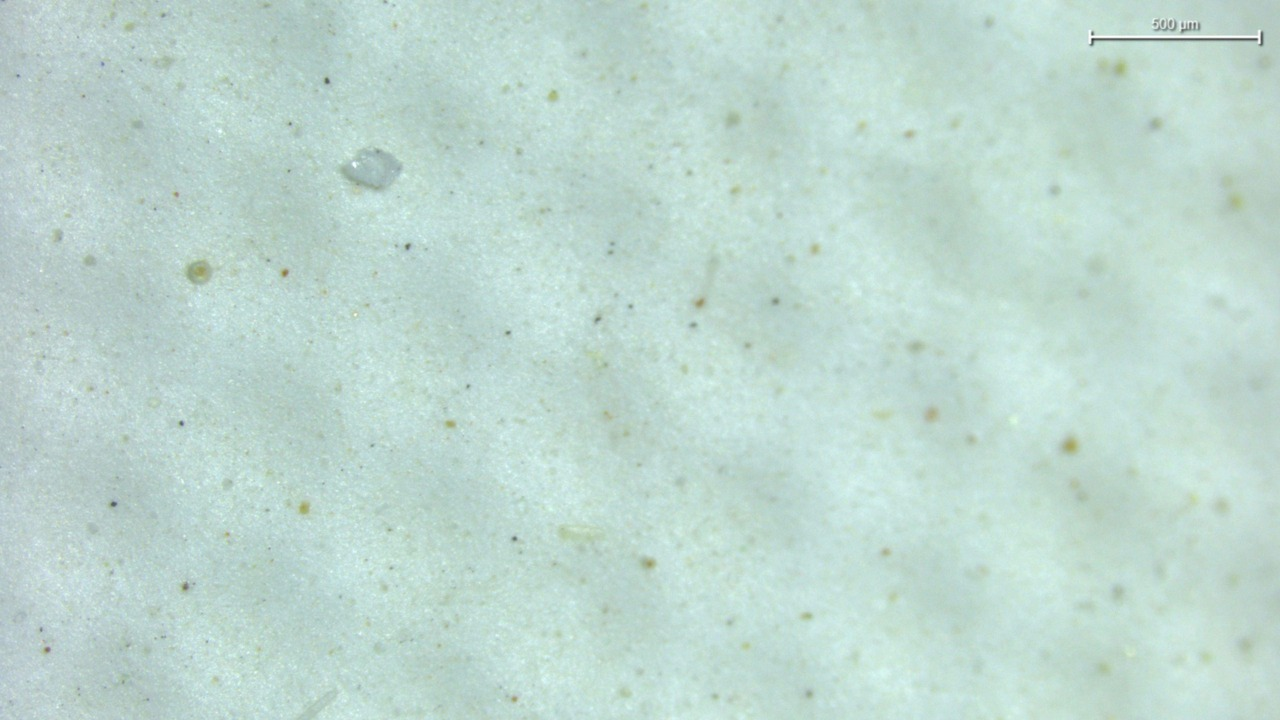microplastic_fragment: (340, 148, 403, 189)
